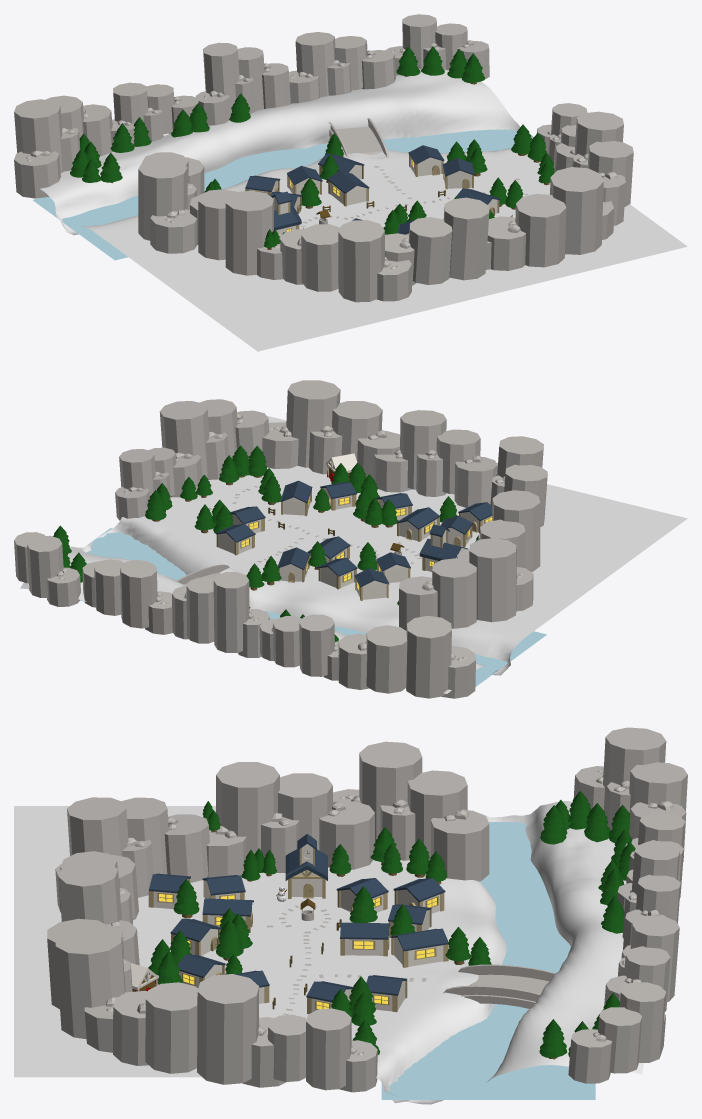
The model's file is villageM.glb.
3 renders of one model, top to bottom at view 1: azimuth 30°, elevation 25°; view 2: azimuth 150°, elevation 25°; view 3: azimuth 270°, elevation 25°, orthographic. The views are drawn at different scales.
Parts seen in each view (by area): view 1: Plane, Cylinder.003, Cylinder.001, Cylinder.014, Plane.001, Cylinder.002, Cylinder.004, Cylinder.009, Cylinder.011, Cylinder.012, Cylinder.007, Cylinder.013 (+3 smaller); view 2: Plane, Cylinder.014, Cylinder.003, Cylinder.009, Cylinder.002, Cylinder.007, Cylinder.012, Cylinder.011, Cylinder.013, Cylinder.010, Cylinder.004, Cylinder.008 (+6 smaller); view 3: Plane, Plane.001, Cylinder.007, Cylinder.004, Cylinder.009, Cylinder.001, Cylinder.003, Cylinder.014, Cylinder.008, Cylinder.010, Cylinder.002, Cylinder.012 (+27 smaller).
Part boxes in pixels (box(x1,y1,x2,y2)): Plane: box(40, 69, 687, 351); Cylinder.003: box(487, 167, 613, 270); Cylinder.001: box(280, 220, 411, 302); Cylinder.014: box(14, 95, 112, 198); Plane.001: box(32, 129, 533, 260); Cylinder.002: box(385, 197, 491, 285); Cylinder.004: box(190, 189, 283, 279); Cylinder.009: box(138, 152, 204, 253); Cylinder.011: box(289, 32, 395, 103); Cylinder.012: box(195, 42, 290, 125); Cylinder.007: box(554, 111, 633, 225); Cylinder.013: box(111, 82, 198, 151); Plane: box(20, 416, 687, 693); Cylinder.014: box(338, 615, 475, 698); Cylinder.003: box(262, 380, 400, 478); Cylinder.009: box(399, 538, 533, 630); Cylinder.002: box(373, 410, 497, 507); Cylinder.007: box(159, 399, 269, 497); Cylinder.012: box(172, 572, 269, 657); Cylinder.011: box(82, 559, 172, 634); Cylinder.013: box(259, 614, 338, 680); Cylinder.010: box(14, 532, 80, 606); Cylinder.004: box(457, 490, 540, 571); Cylinder.008: box(115, 447, 178, 520); Plane: box(14, 801, 643, 1104); Plane.001: box(381, 822, 595, 1099); Cylinder.007: box(113, 974, 285, 1087); Cylinder.004: box(206, 762, 374, 877); Cylinder.009: box(333, 741, 489, 881); Cylinder.001: box(55, 797, 209, 912); Cylinder.003: box(47, 918, 132, 1052); Cylinder.014: box(573, 727, 687, 861); Cylinder.008: box(264, 1008, 377, 1092); Cylinder.010: box(568, 982, 666, 1083); Cylinder.002: box(58, 851, 139, 965); Cylinder.012: box(617, 842, 680, 949).
Bounding box in the file's own units: 312 × 68.65 × 303.
Materials: 16 (2 with a texture image).
